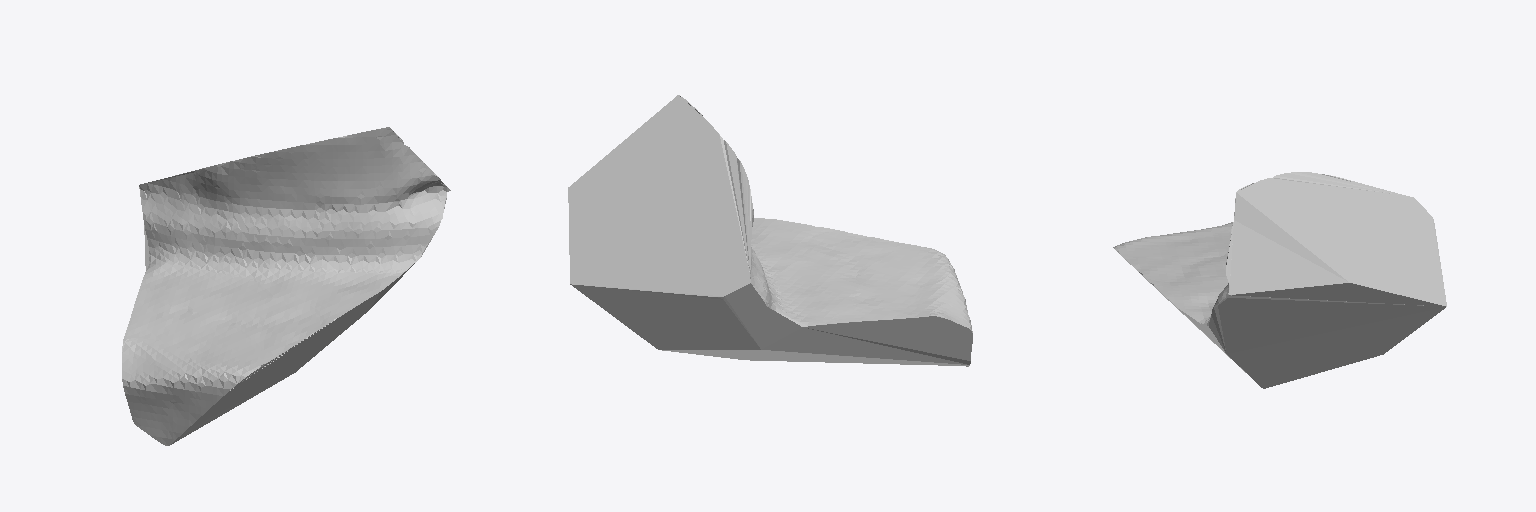
File: low_cell_063.obj
3 views of the same model, side by side, from view 1: azimuth 30°, elevation 25°; view 2: azimuth 150°, elevation 25°; view 3: azimuth 270°, elevation 25° (orthographic).
Parts seen in each view (by area): view 1: low_cell.063_low_cell.062; view 2: low_cell.063_low_cell.062; view 3: low_cell.063_low_cell.062.
Part boxes in pixels (x1,y1,x2,y2): low_cell.063_low_cell.062: (122,127,450,445); low_cell.063_low_cell.062: (568,95,972,366); low_cell.063_low_cell.062: (1113,172,1446,388).
Size of the model in its own units: 0.9516 by 0.6354 by 0.8158.